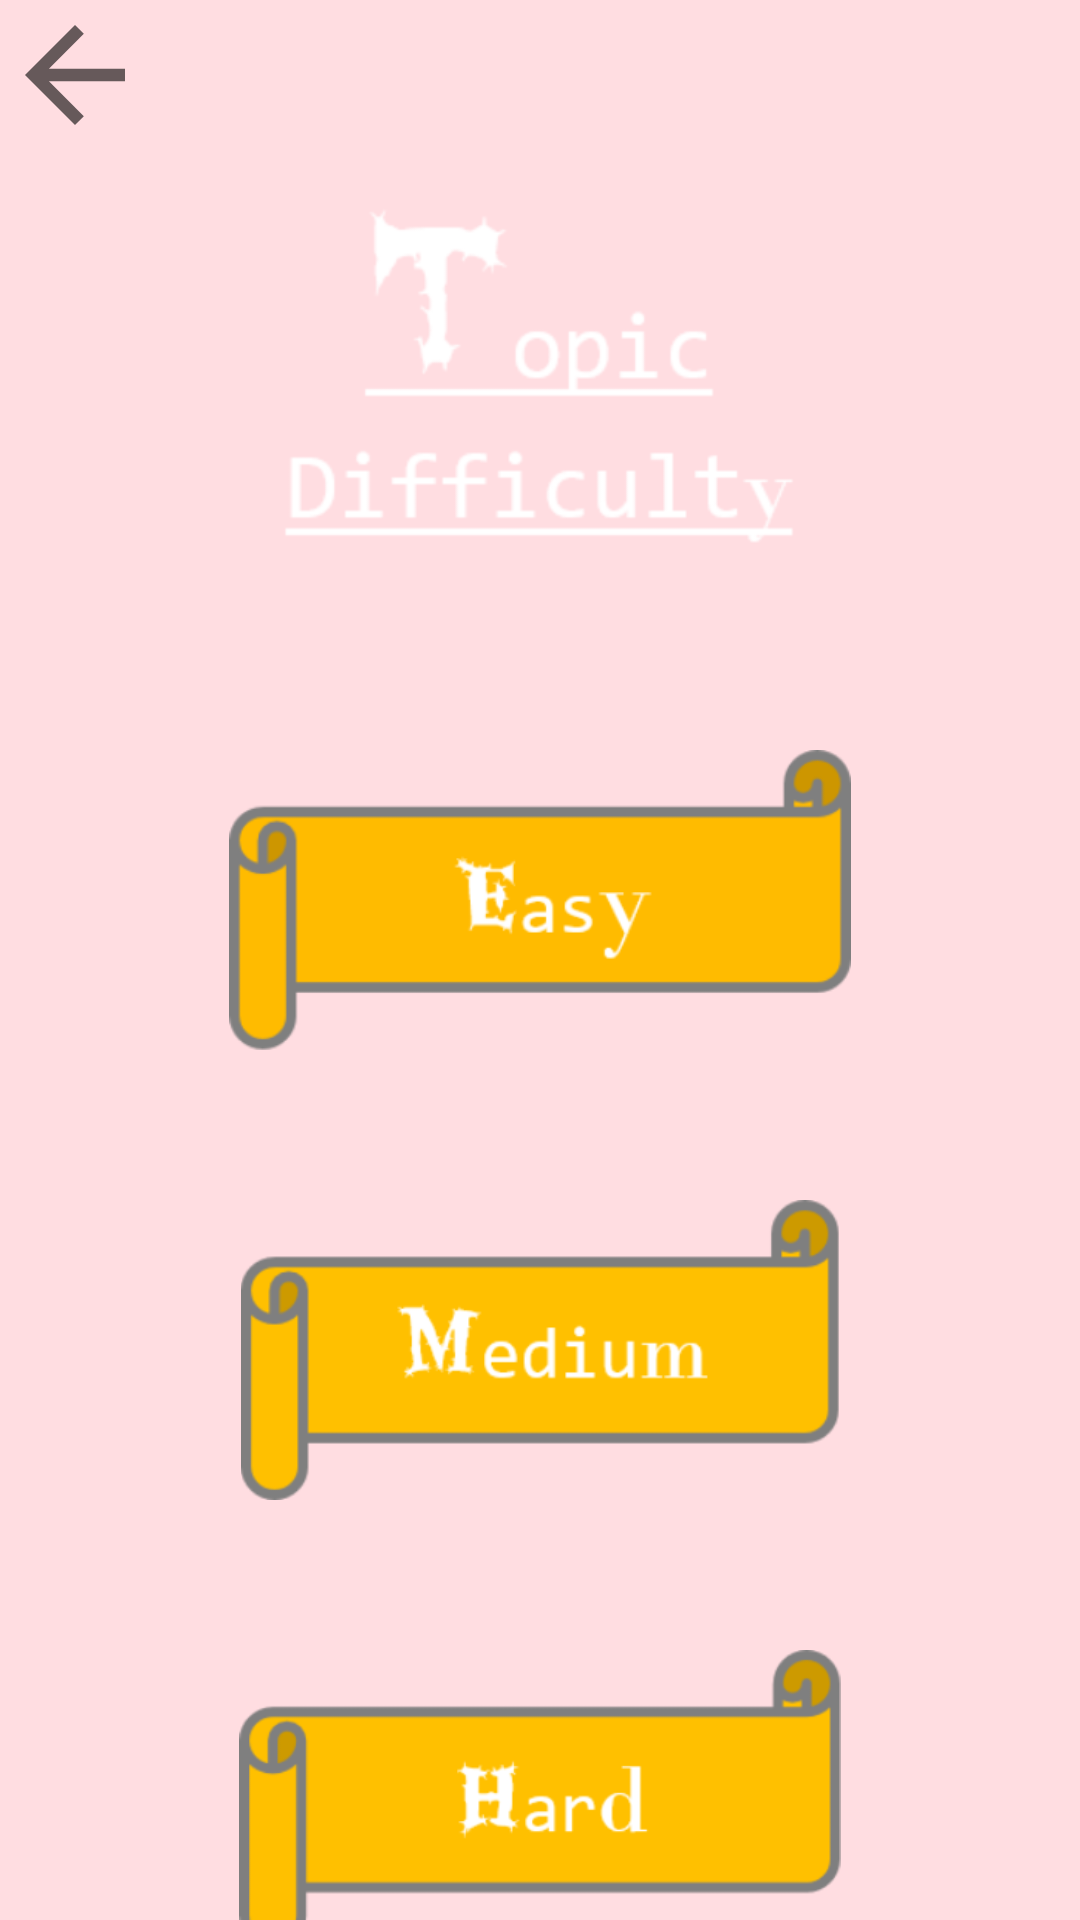

Where to tap for icons on this 1080px x 1920px app screen, as (x=x, y=y):
back: (x=75, y=75)
